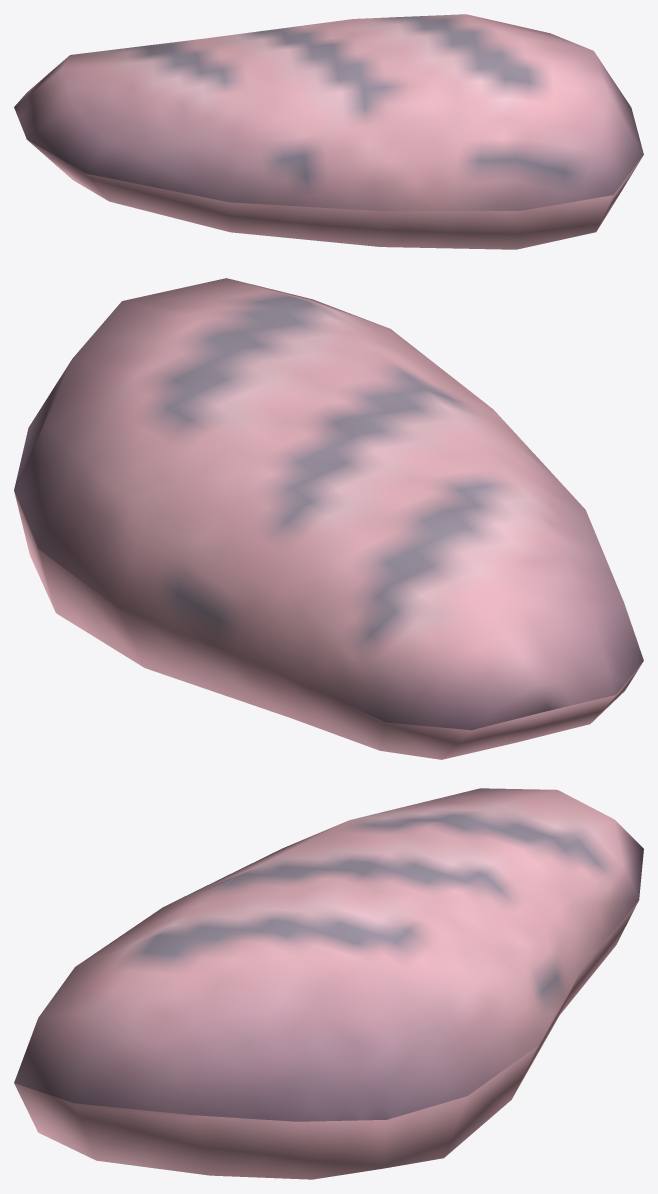
Rendered from Chicken_Uncooked.fbx.
3 views of the same model, one above another, from view 1: azimuth 30°, elevation 25°; view 2: azimuth 150°, elevation 25°; view 3: azimuth 270°, elevation 25° (orthographic). The views are drawn at different scales.
Visible parts, largest first — view 1: Chicken_Uncooked; view 2: Chicken_Uncooked; view 3: Chicken_Uncooked.
Boxes of the visible parts, x1,y1,x2,y2 form: Chicken_Uncooked: (14, 14, 643, 249); Chicken_Uncooked: (14, 278, 643, 759); Chicken_Uncooked: (14, 788, 643, 1179).
Bounding box in the file's own units: 33.21 × 10.82 × 28.92.
